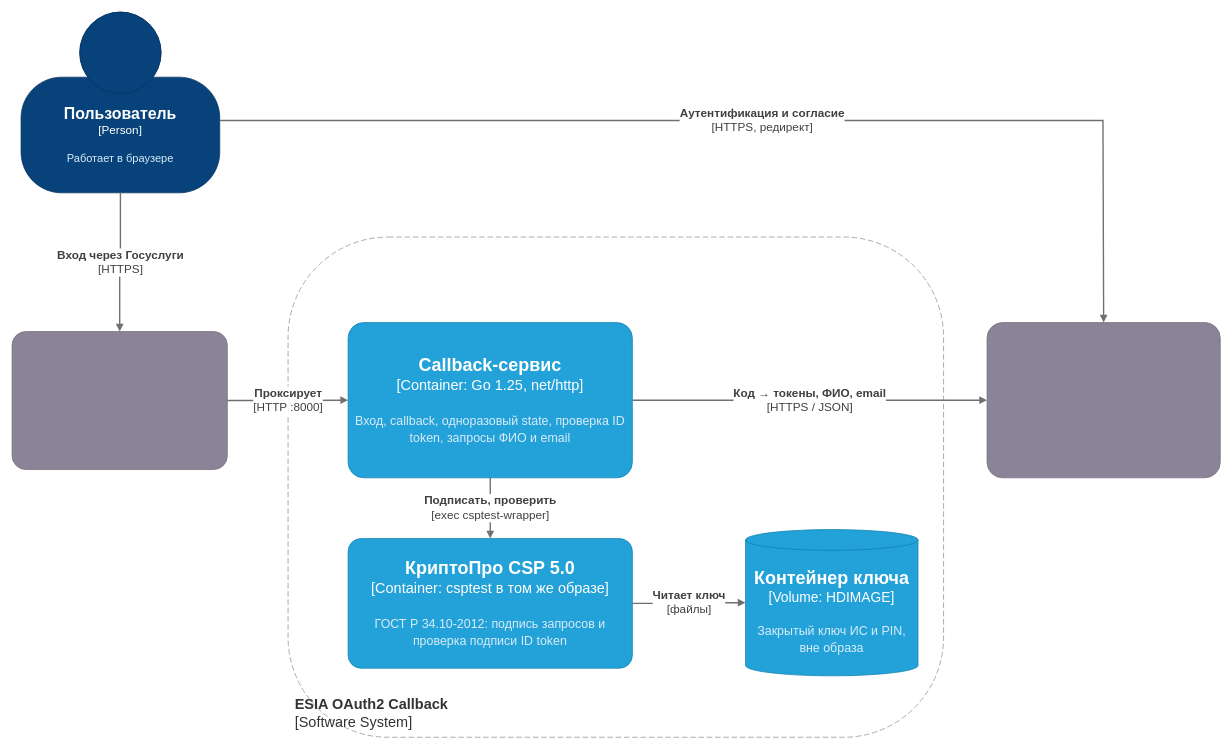
Some shapes in this 1232 by 749 pixel diagram are drawn without their labels. The shapes that lost their labels are listed below. From the top down, each one's centre as x and y in pixels, then its label:
At point (119, 400): "Reverse proxy [Container: nginx] Завершает TLS, проксирует /auth/esia/*".
At point (1103, 400): "ЕСИА [Software System] OAuth 2.0 / OIDC, REST API".
